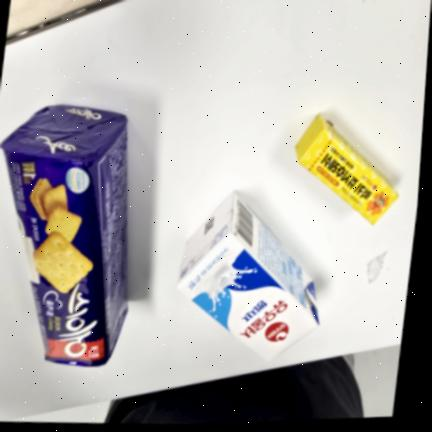cracker_ace: (1, 105, 128, 366)
gum_yellow: (295, 114, 399, 225)
milk_blue: (177, 192, 319, 361)
